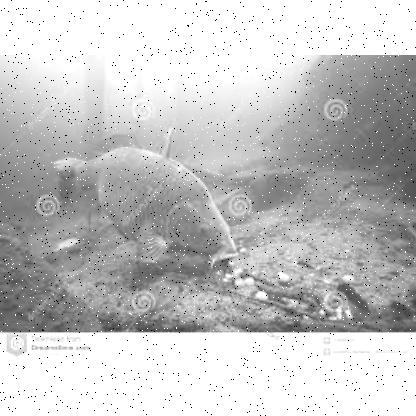ikan-mas: (58, 132, 238, 264)
